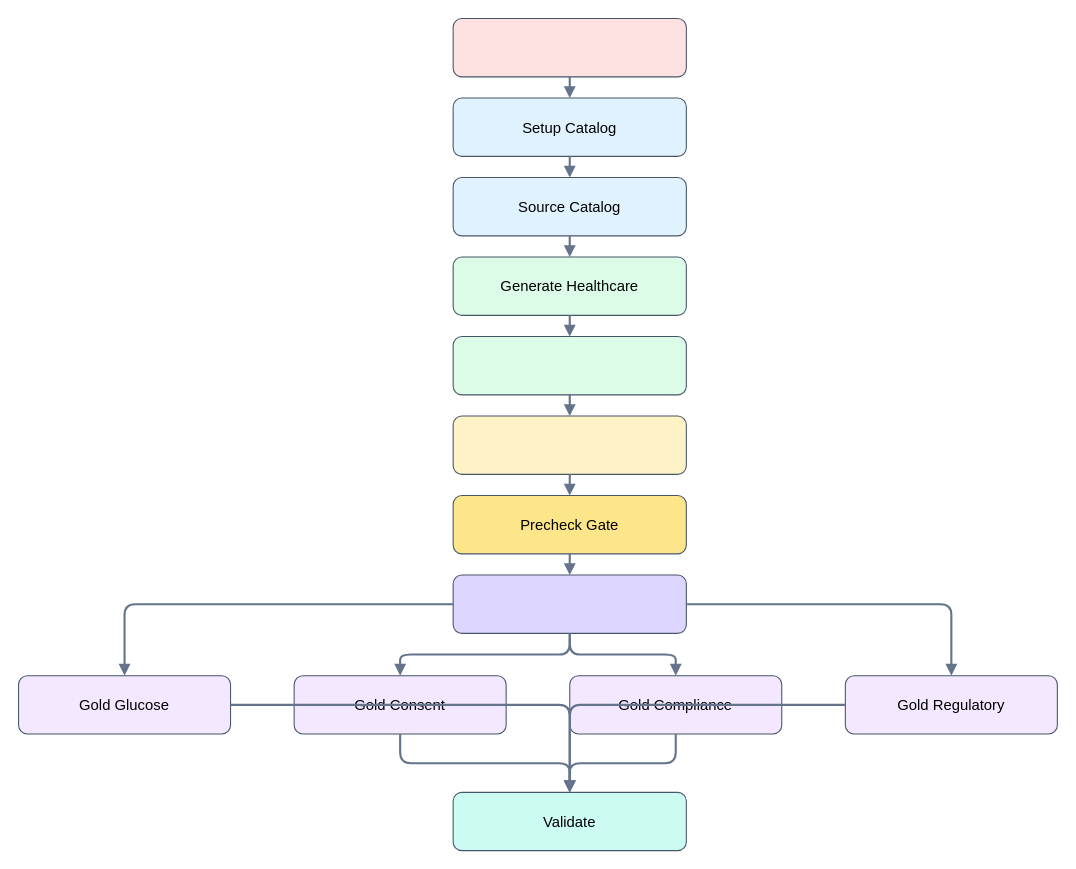
Image size: 1076x869. Some labels were removed from this diagram. The box of each missing label's shape, as (x1, y1, x2, y2) in pixels:
Archive & Cleanup: (452, 17, 686, 77)
Generate Domains: (452, 335, 686, 395)
Ingest Bronze: (452, 415, 686, 474)
Silver Views: (452, 574, 686, 633)
